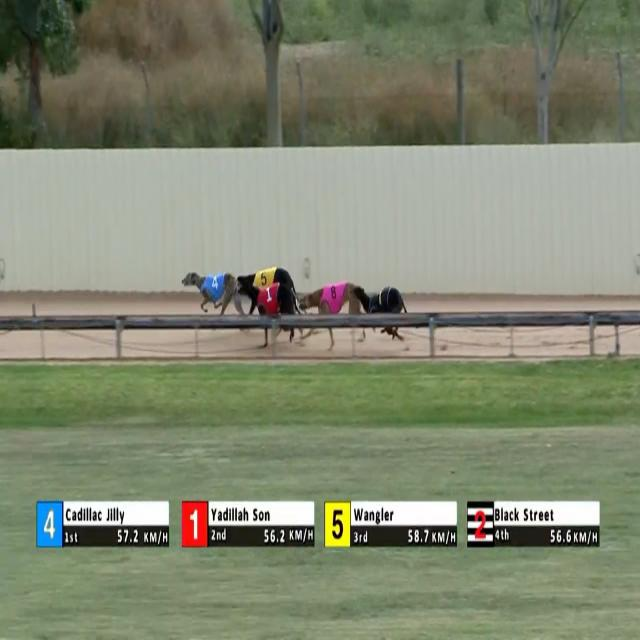dog_eight: (327, 282, 343, 312)
dog_five: (255, 269, 271, 290)
dog_four: (206, 272, 226, 302)
dog_one: (262, 285, 277, 312)
dog_seven: (370, 286, 390, 314)
rail: (0, 311, 640, 333)
